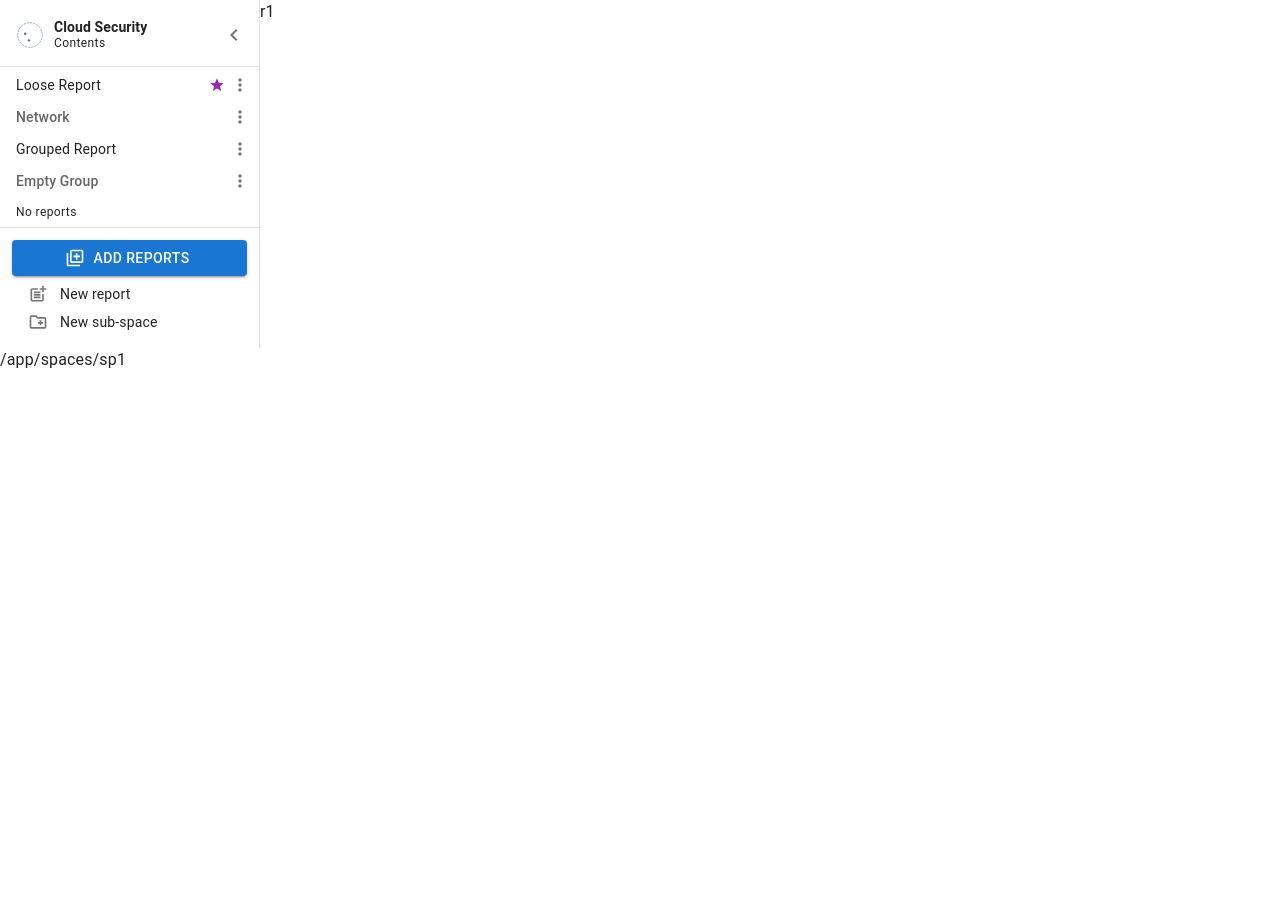
Test: SpaceDetail › keeps failed reports selected and says which failed
Click the button "Add reports": (130, 258) [12,240,247,276]
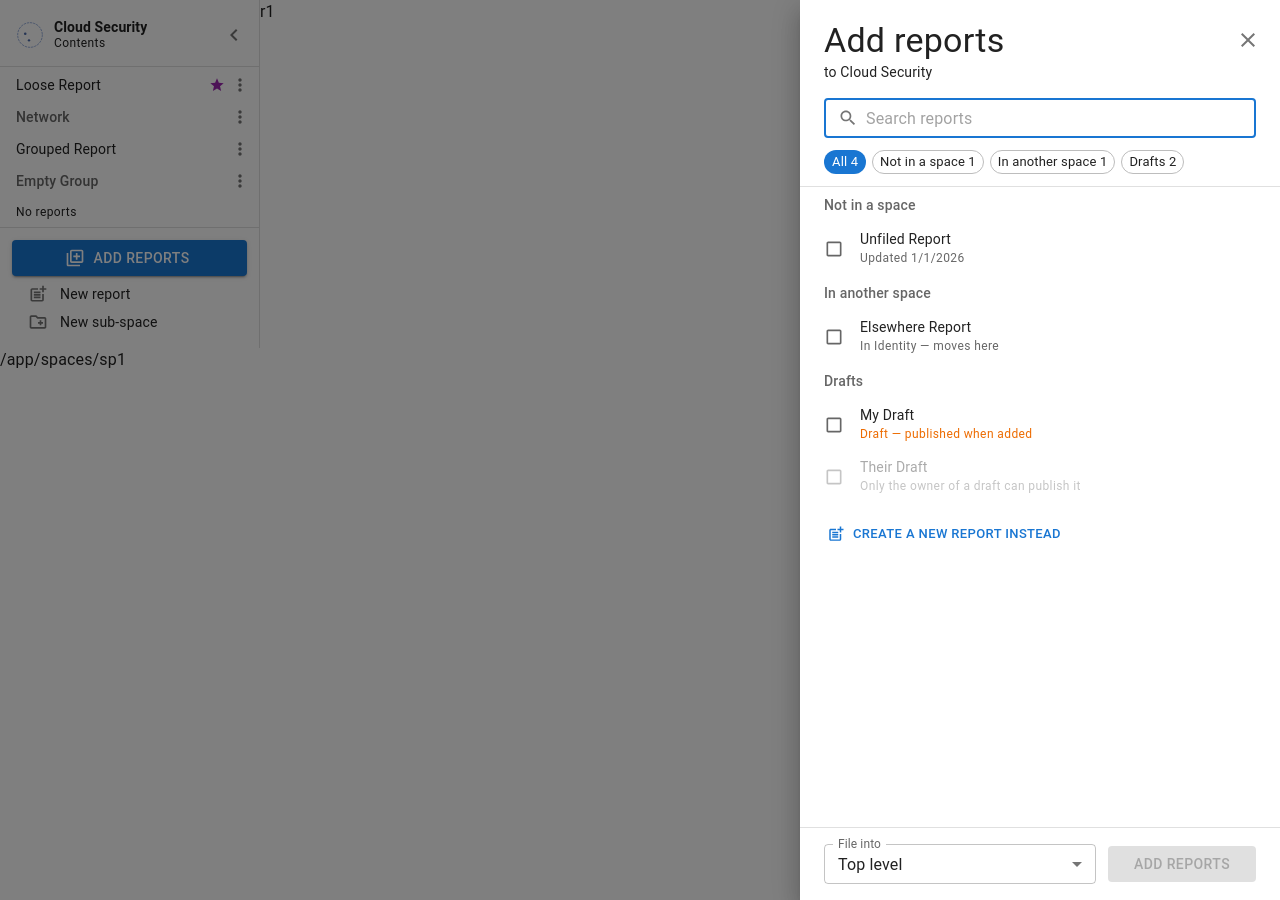
Click the button "Unfiled Report Updated 1/1/2026": (894, 248) [824,231,965,265]
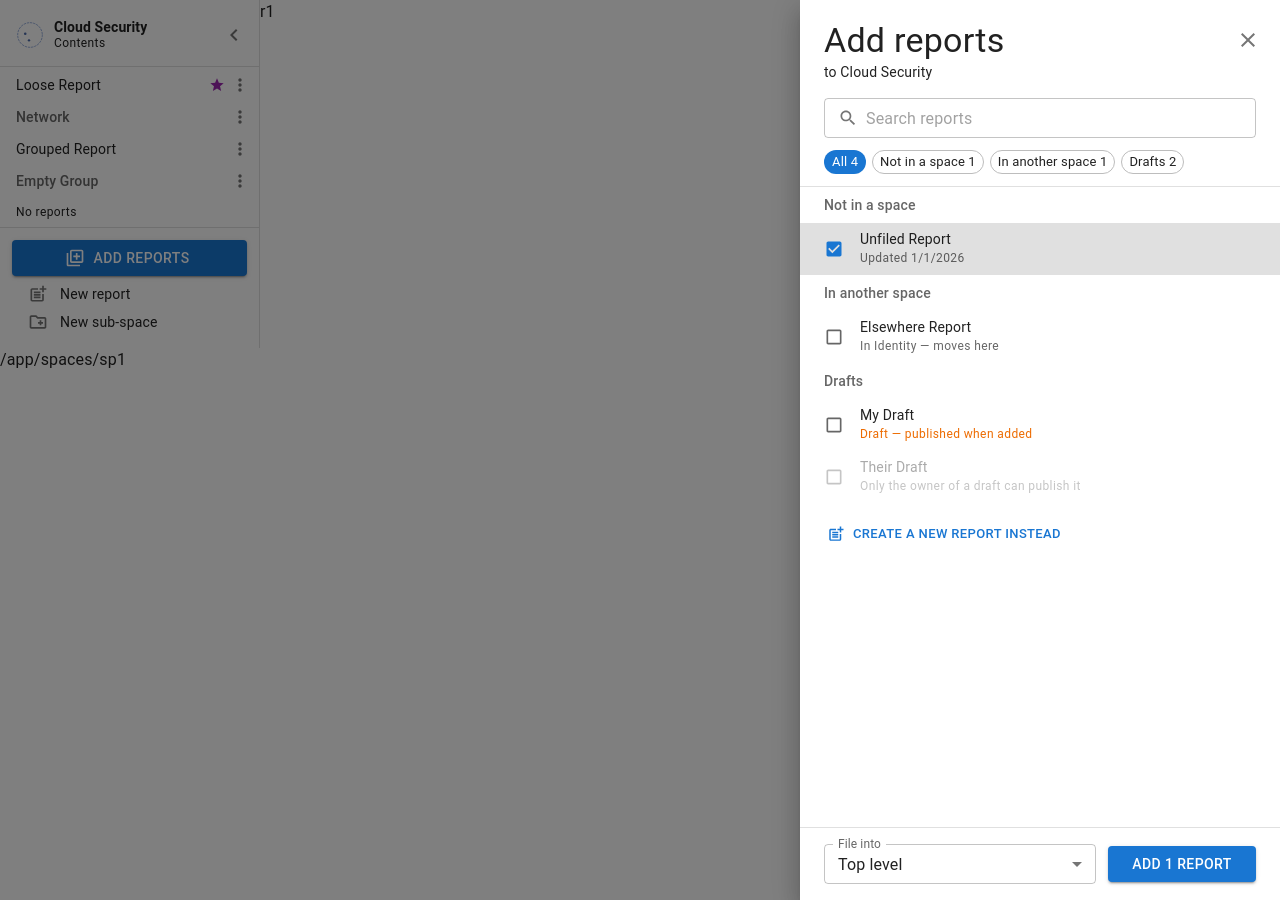
Click the button "Add 1 report": (1182, 864) [1108,846,1256,882]
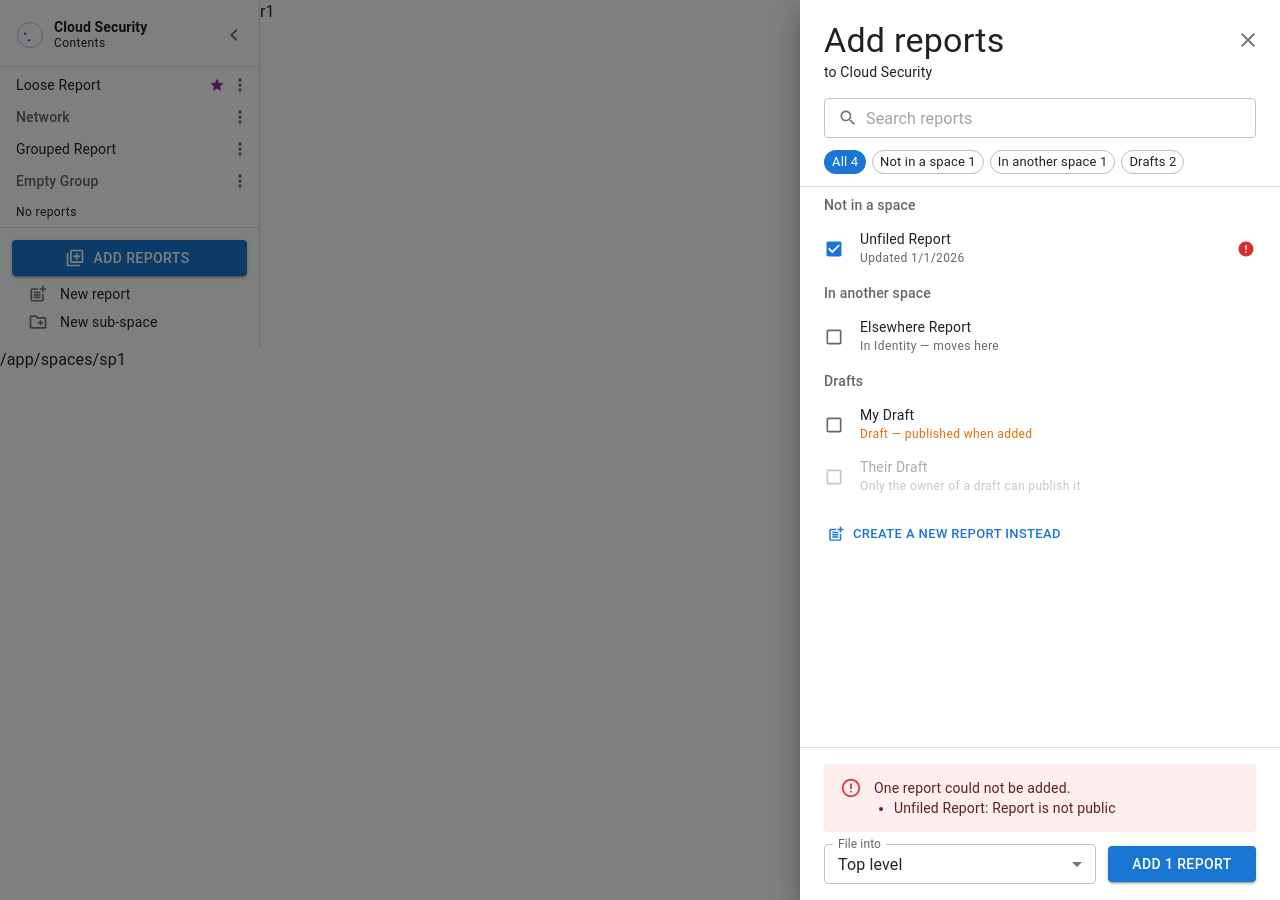
Now the button "Add 1 report" is enabled, box [1108,846,1256,882]
Now the list item "Unfiled Report: Report is not public" is shown, box [894,798,1116,818]
